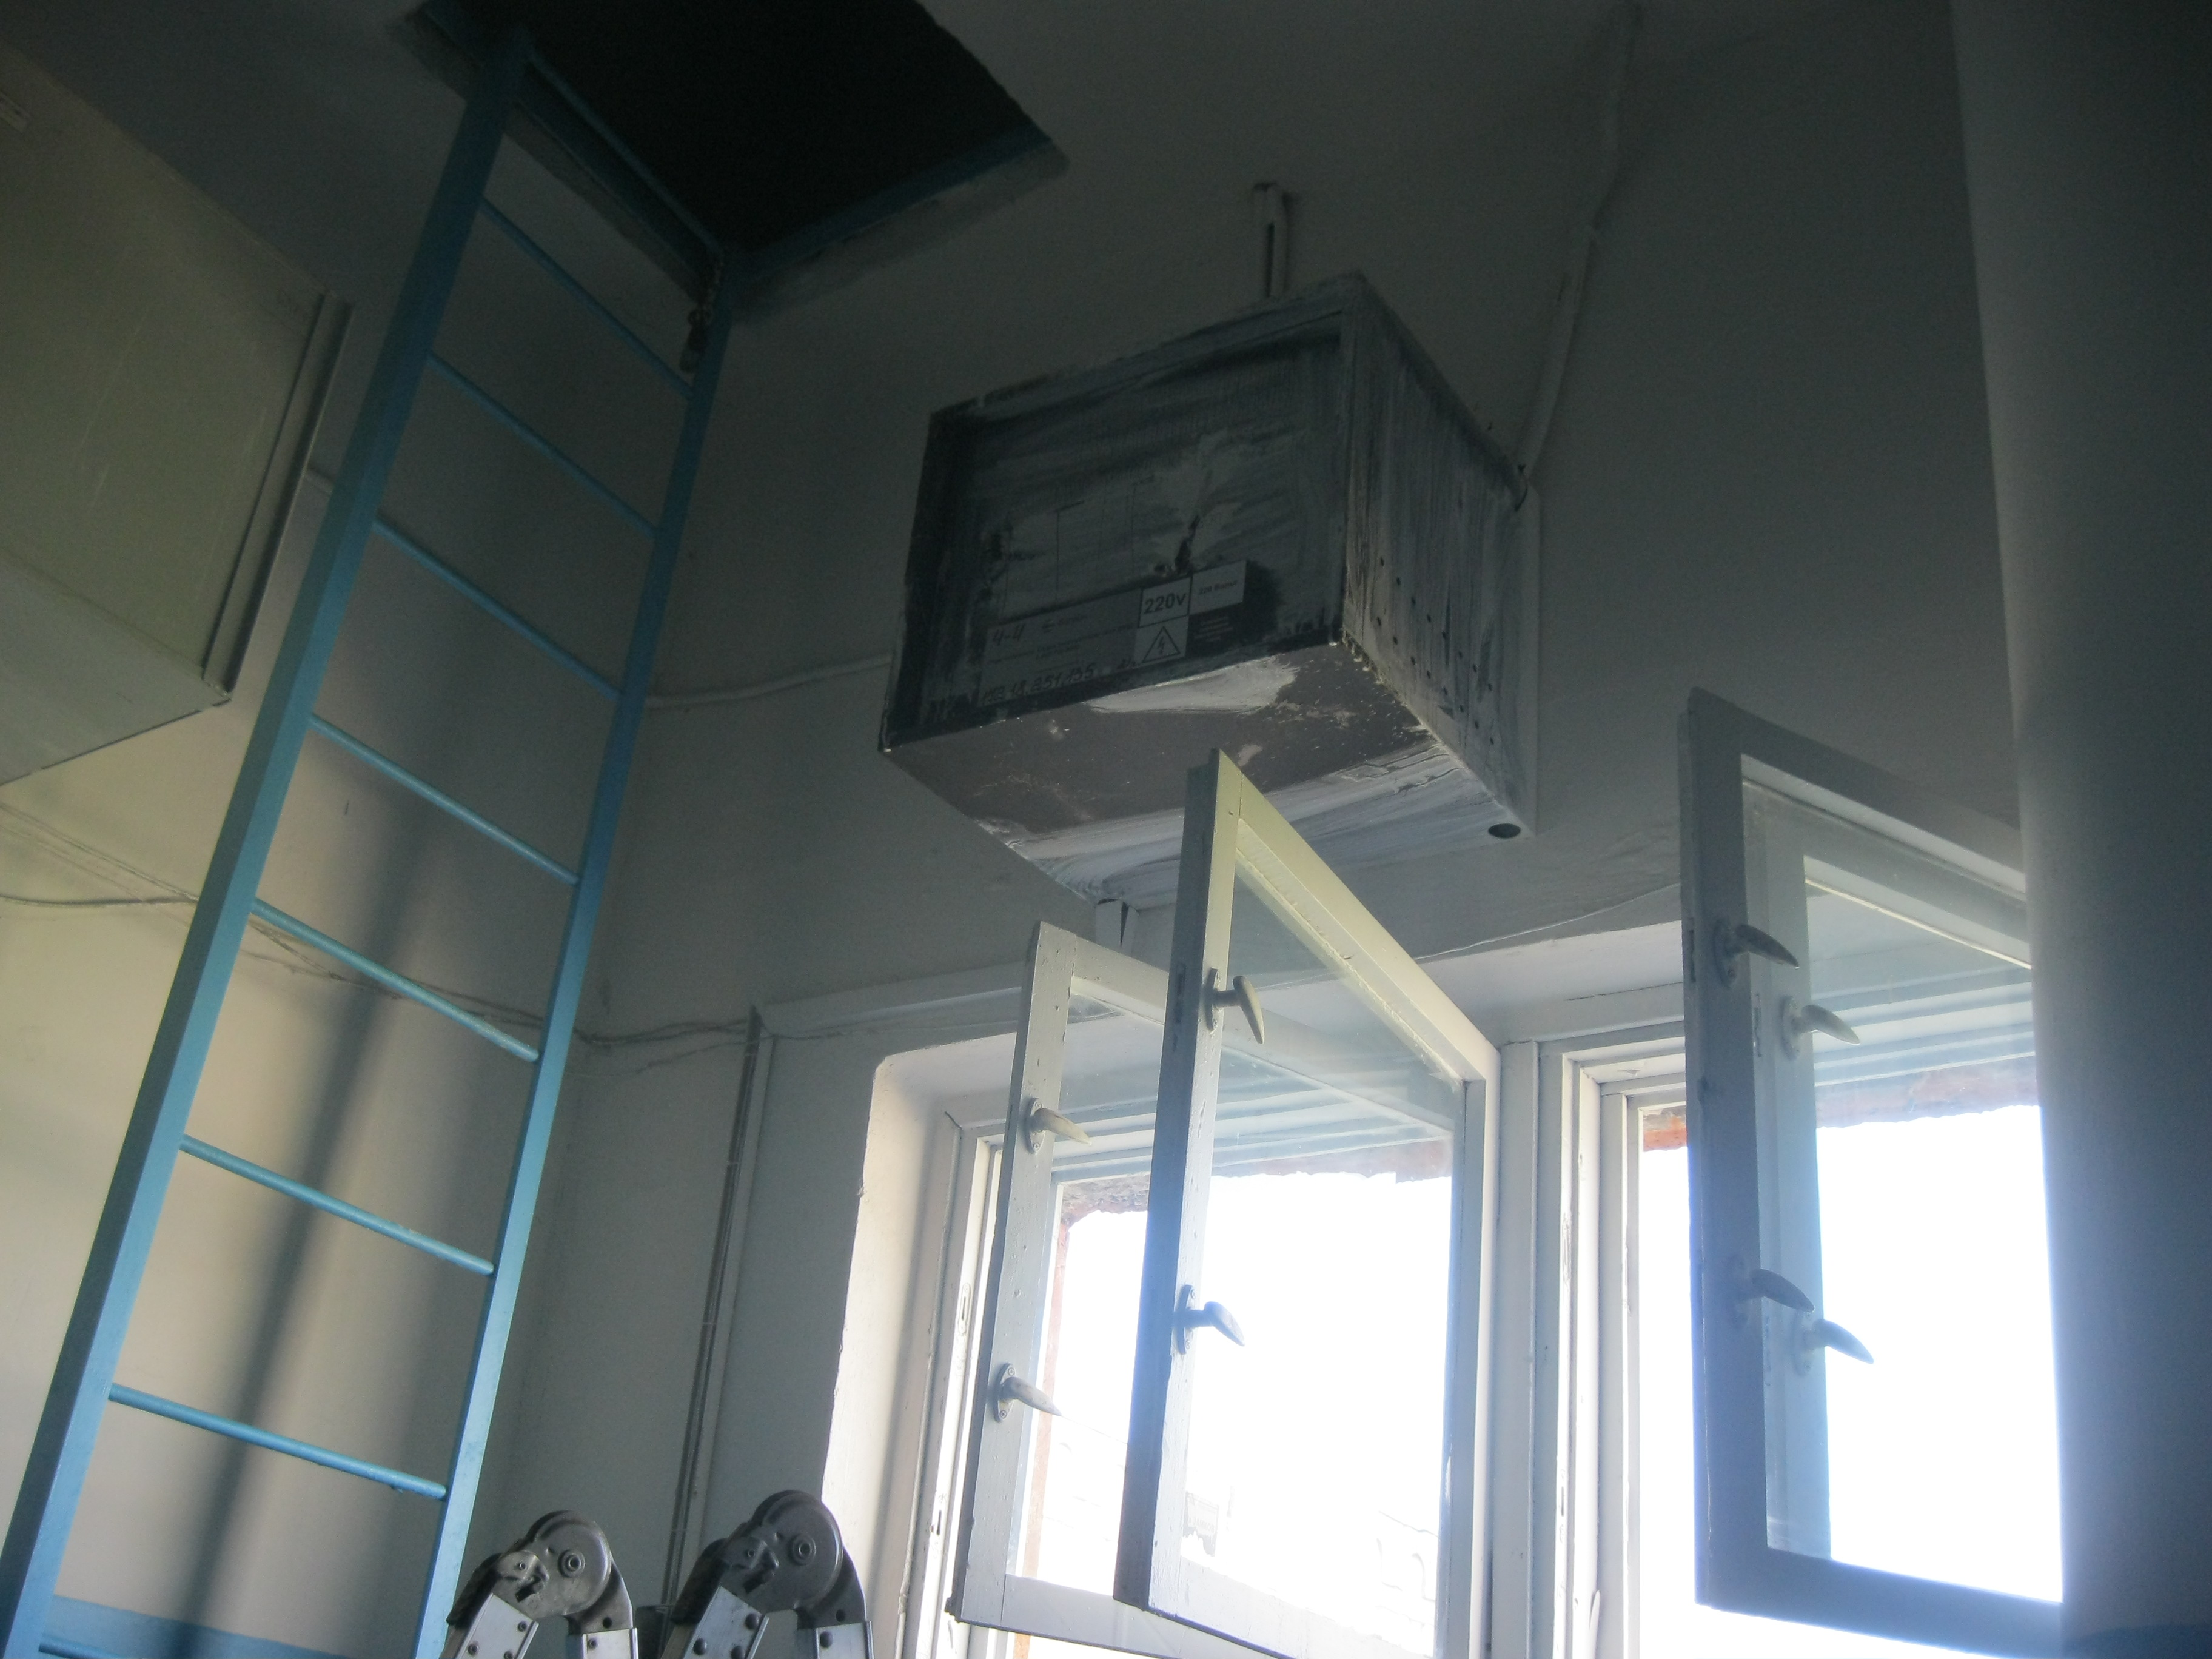shta-9m: (860, 268, 1554, 911)
